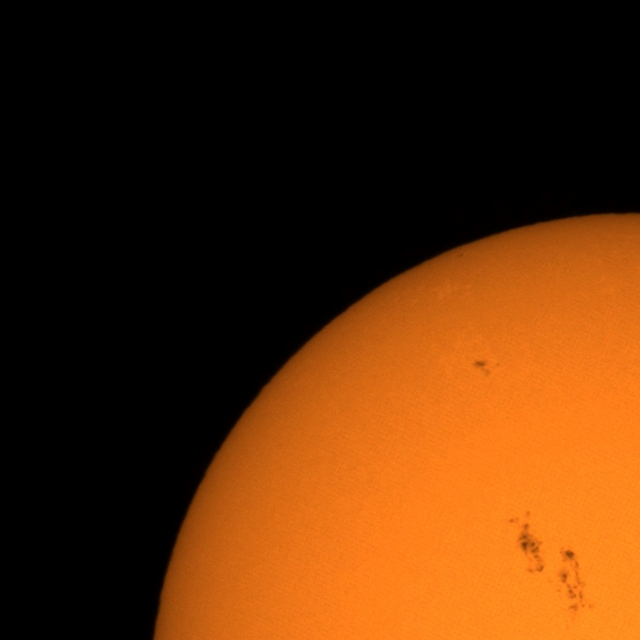sunspot: (556, 558, 592, 616), (516, 530, 546, 574), (557, 544, 584, 592), (473, 359, 498, 378)
